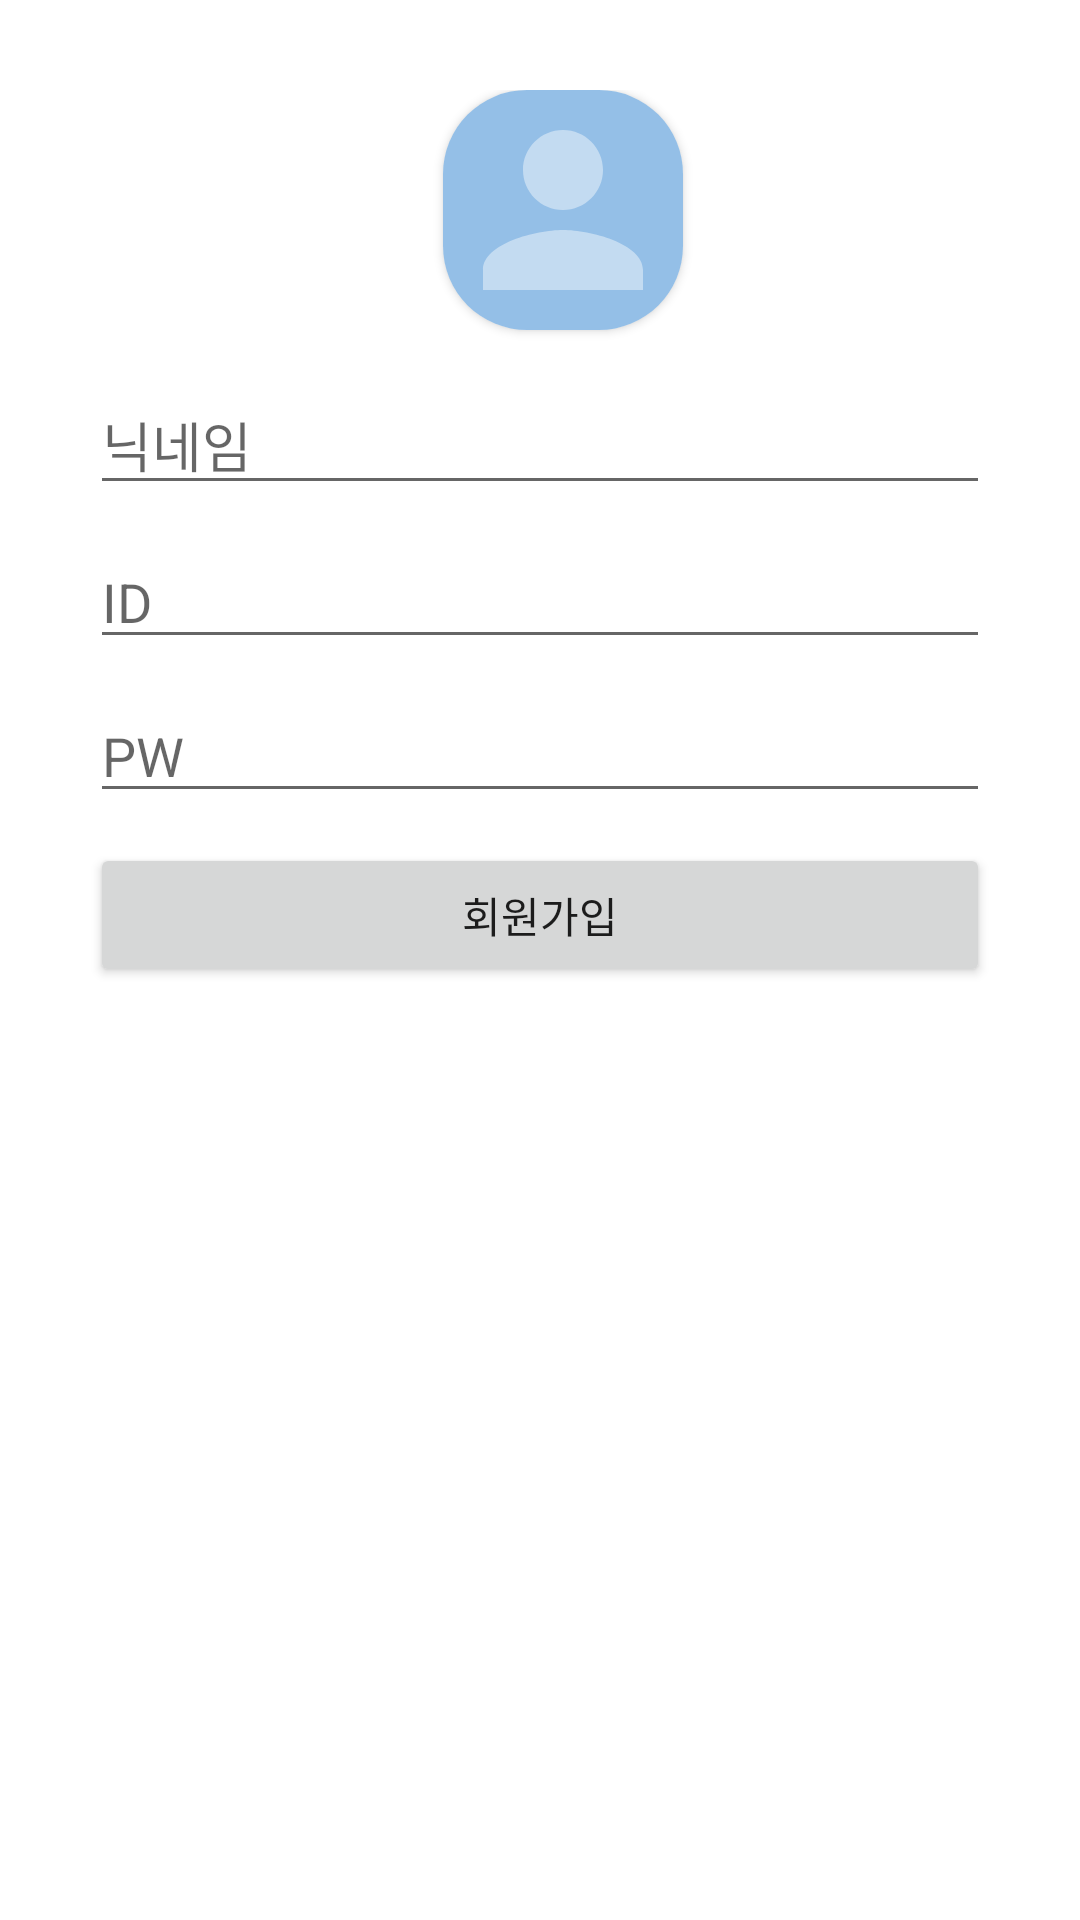

Locate icon controls on the screen. Image size 1080 x 1920, boxes as (x1, y1, x2, y2).
person: (443, 90, 683, 330)
